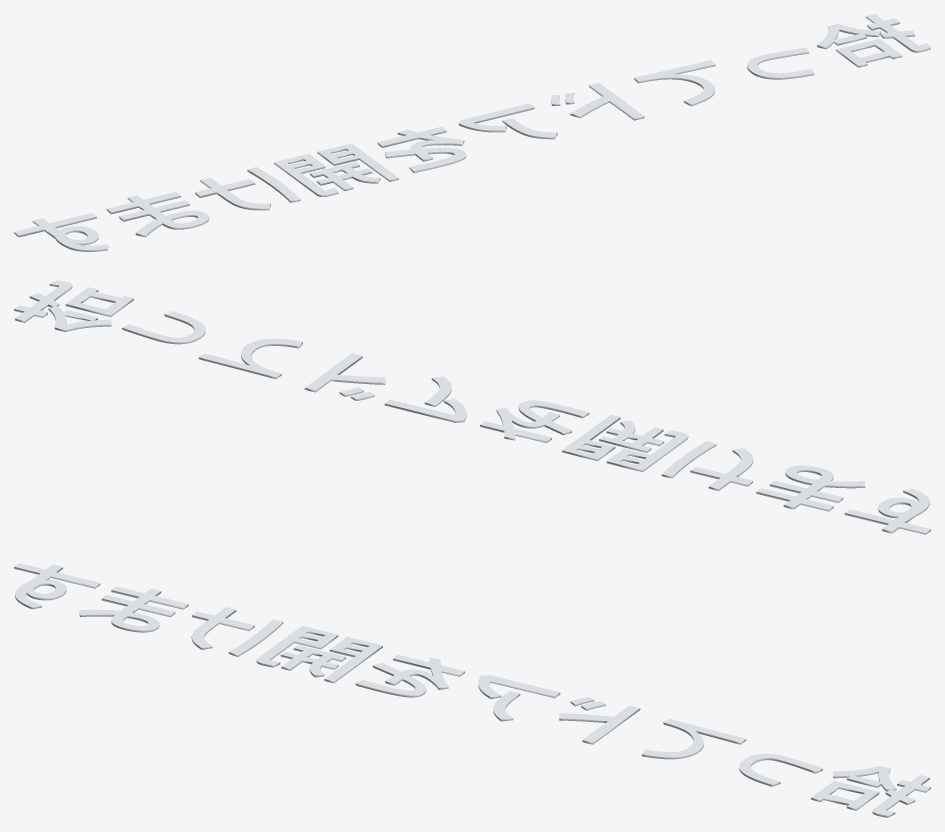
The model's file is stage2_key_detail.obj.
3 views of the same model, one above another, from view 1: azimuth 30°, elevation 25°; view 2: azimuth 150°, elevation 25°; view 3: azimuth 330°, elevation 25° (orthographic). The views are drawn at different scales.
Parts seen in each view (by area): view 1: stage2_key_detail; view 2: stage2_key_detail; view 3: stage2_key_detail.
Part boxes in pixels (x1=…): stage2_key_detail: x1=14, y1=14, x2=930, y2=251; stage2_key_detail: x1=14, y1=280, x2=930, y2=534; stage2_key_detail: x1=14, y1=563, x2=930, y2=817.
Bounding box in the file's own units: 4.3 × 0.00953 × 0.4123.
Materials: 1 (1 with a texture image).
